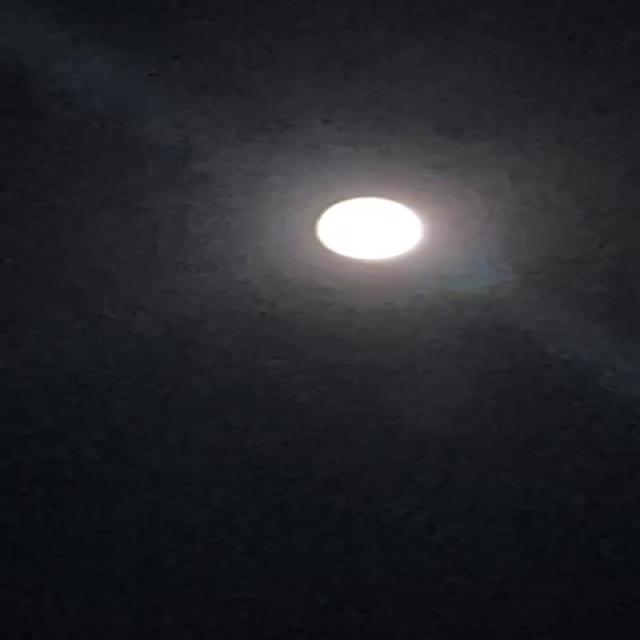moon: (311, 194, 437, 264)
